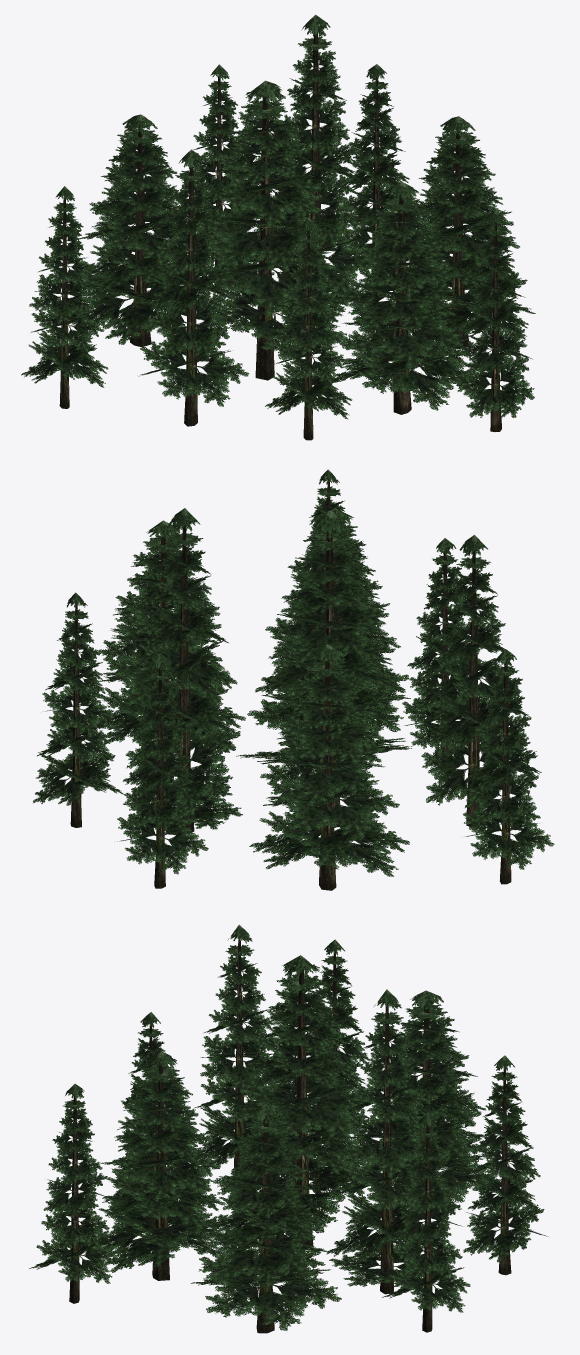
File: campaign_trees_pines.dae
3 views of the same model, one above another, from view 1: azimuth 30°, elevation 25°; view 2: azimuth 150°, elevation 25°; view 3: azimuth 270°, elevation 25° (orthographic). The views are drawn at different scales.
Visible parts, largest first — view 1: pine014; view 2: pine014; view 3: pine014.
Part boxes in pixels (box(x1,y1,x2,y2)): pine014: box(21, 14, 535, 440); pine014: box(33, 469, 554, 890); pine014: box(29, 924, 548, 1333).
Size of the model in its own units: 12.81 by 7.57 by 12.54.
